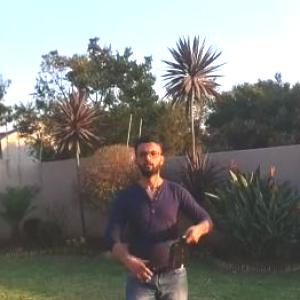follow: (99, 126, 220, 299)
